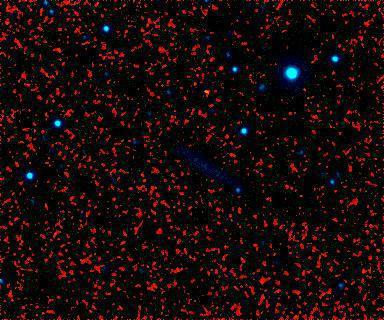star: (194, 78, 224, 108)
